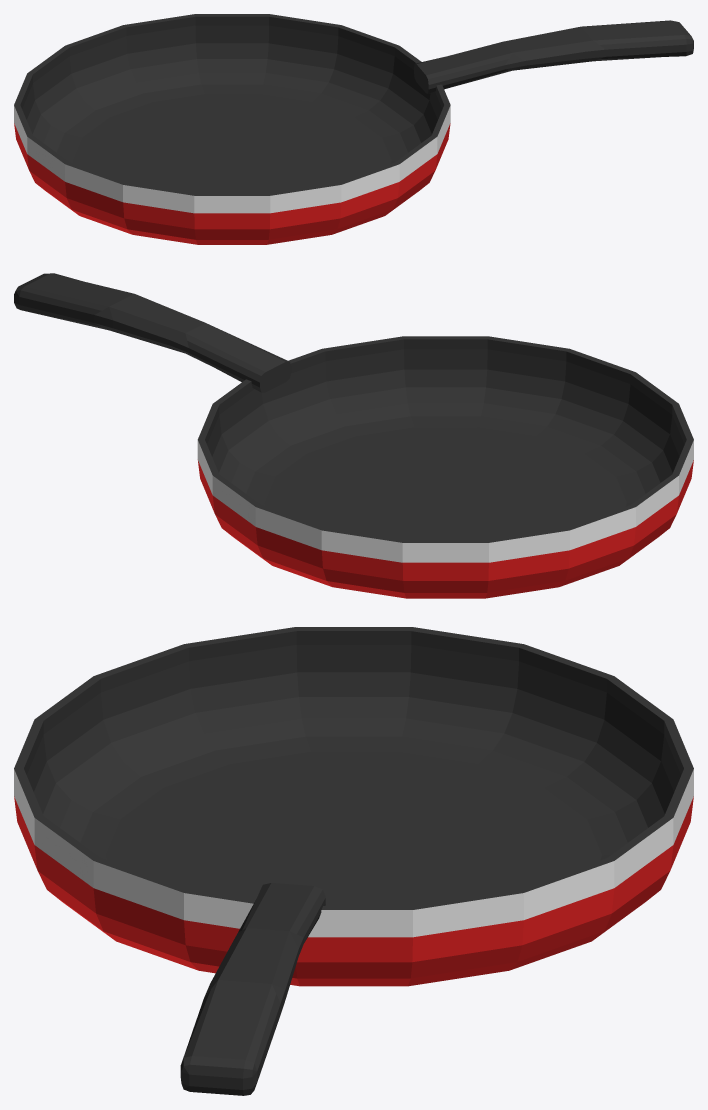
Rendered from frying_pan.gltf.
The picture shows the model from 3 angles, top to bottom: view 1: azimuth 30°, elevation 25°; view 2: azimuth 150°, elevation 25°; view 3: azimuth 270°, elevation 25°; orthographic projection. The views are drawn at different scales.
Visible parts, largest first — view 1: Cylinder001, Box001; view 2: Cylinder001, Box001; view 3: Cylinder001, Box001.
Part boxes in pixels (bbox=[...]): Cylinder001: bbox=[14, 14, 450, 244]; Box001: bbox=[414, 20, 693, 93]; Cylinder001: bbox=[197, 336, 693, 598]; Box001: bbox=[14, 273, 291, 392]; Cylinder001: bbox=[14, 627, 693, 986]; Box001: bbox=[180, 883, 325, 1095].
Size of the model in its own units: 0.5526 by 0.0733 by 0.3481.
